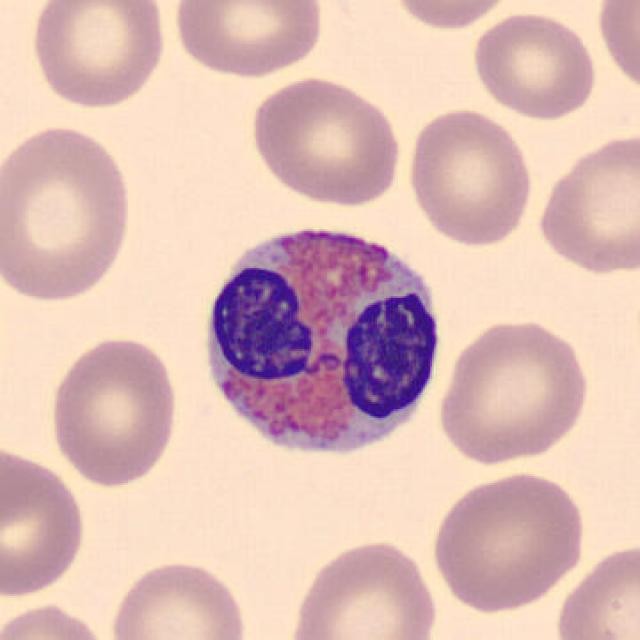Eosinophil: (192, 208, 452, 476)
RBC: (0, 118, 139, 307), (434, 314, 594, 467), (428, 466, 588, 616), (245, 72, 406, 208), (45, 333, 183, 490), (404, 104, 535, 249), (282, 534, 442, 640), (25, 0, 171, 111), (532, 129, 638, 277), (467, 8, 601, 122), (0, 443, 89, 601), (169, 0, 329, 81), (105, 555, 252, 640), (551, 537, 640, 640), (0, 599, 114, 640), (592, 0, 638, 97), (388, 0, 519, 32)
